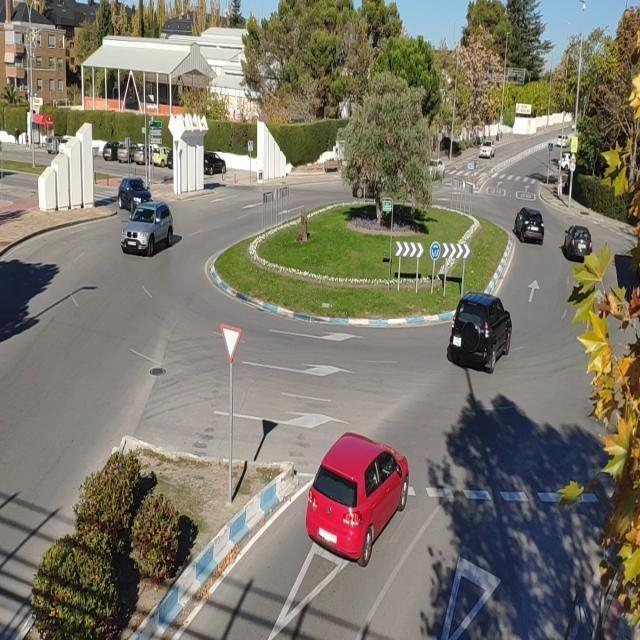Car: (291, 420, 431, 580), (440, 284, 527, 372), (122, 202, 174, 259), (508, 203, 554, 252), (560, 219, 602, 268), (462, 128, 506, 167), (114, 175, 151, 209), (424, 157, 450, 189), (546, 128, 578, 152), (554, 150, 577, 173)
